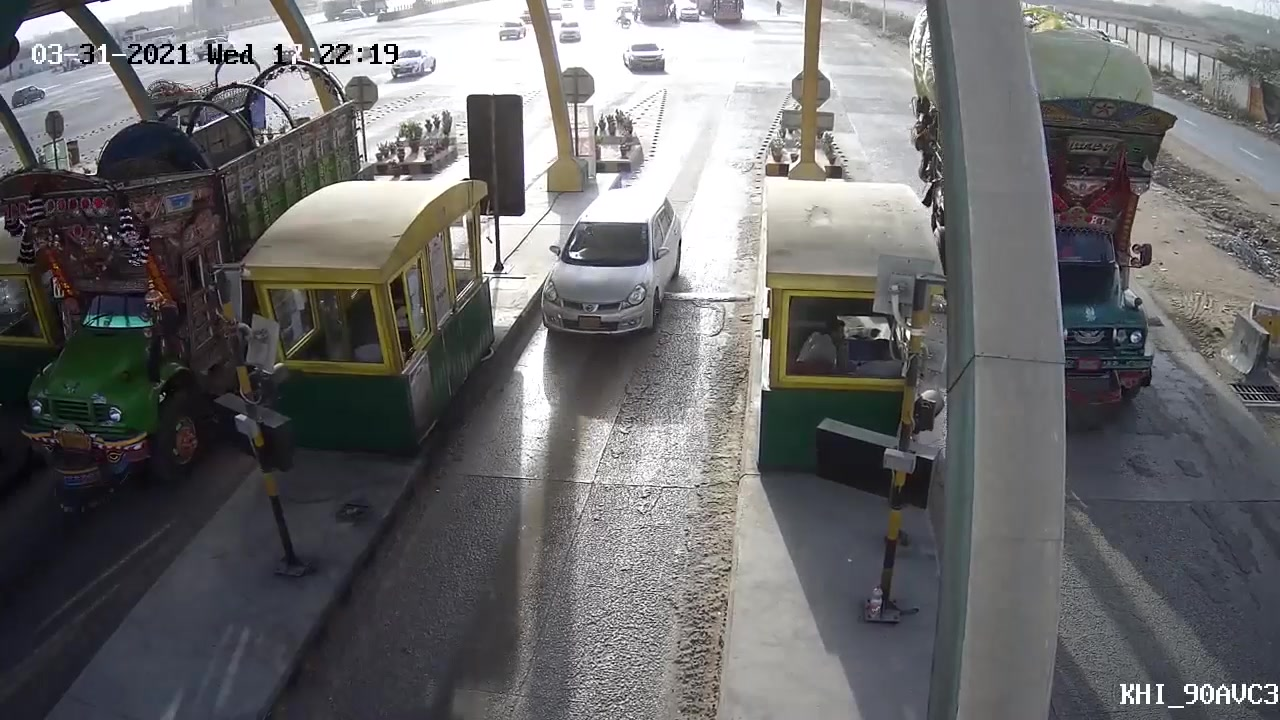F1: (538, 183, 691, 355)
